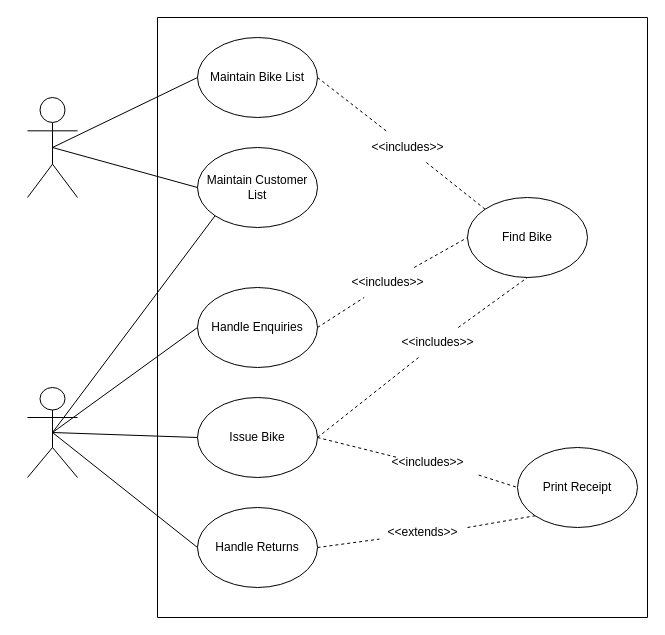
The diagram is 665 pixels wide and 635 high, and some of its shapes have lost their labels. The shapes that lost their labels are listed below. From the top down, each one's centre as x and y in pixels, then its label:
At point 52,147: "Administrator".
At point 52,432: "Receptionist".
